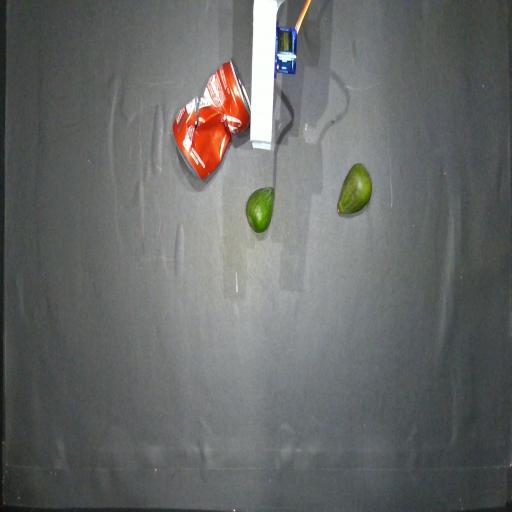higo: (337, 163, 372, 214), (246, 187, 274, 232)
lata_defectuoso: (173, 60, 250, 179)
